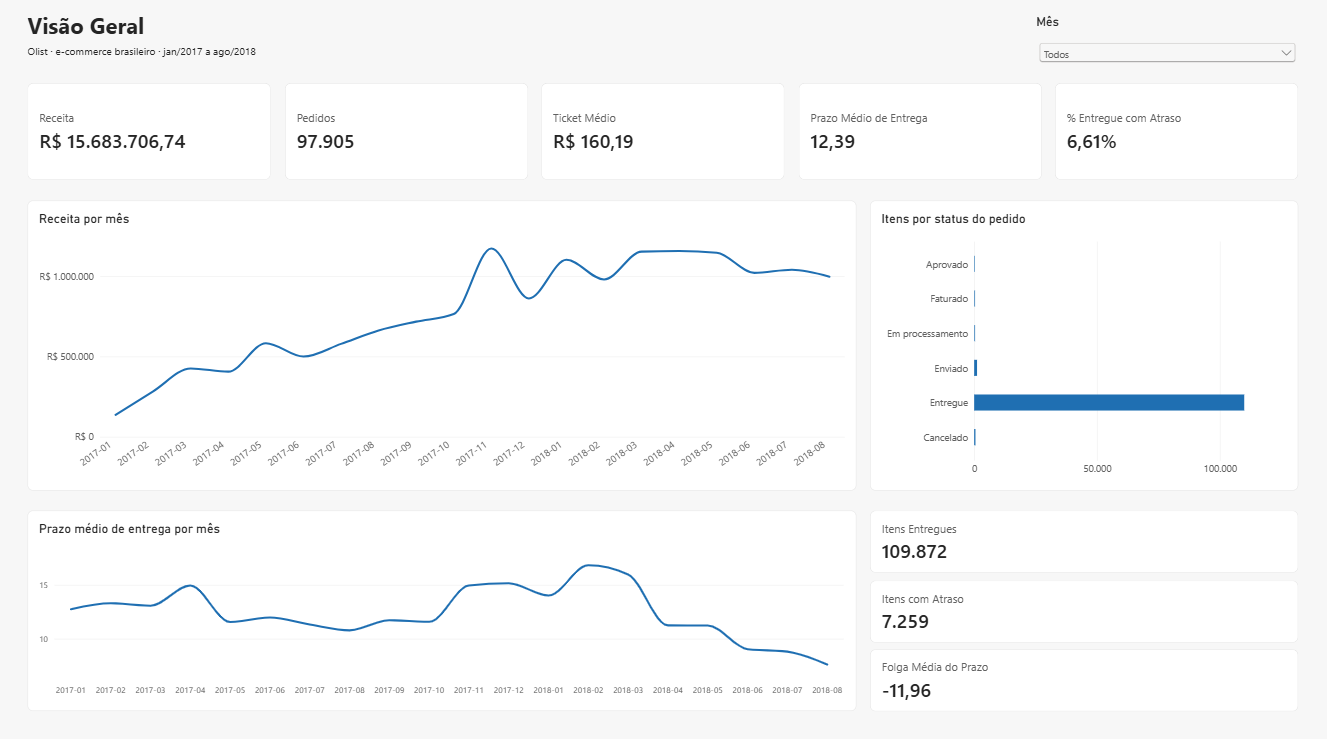

Layout of this report page (visuals, bound fields, positions):
{"tool":"powerbi","page":{"name":"Visão Geral","canvas":[1920,1080],"ordinal":0},"visuals":[{"type":"cardVisual","fields":{"Data":["fato_vendas.Receita"]},"box":[40,130,352,140],"z":0},{"type":"lineChart","fields":{"Category":["dim_data.ano_mes"],"Y":["fato_vendas.Receita"]},"box":[40,300,1200,420],"z":10},{"type":"lineChart","fields":{"Category":["dim_data.ano_mes"],"Y":["fato_vendas.Prazo Médio de Entrega"]},"box":[40,750,1200,290],"z":11},{"type":"barChart","fields":{"Category":["dim_status_pedido.status"],"Y":["fato_vendas.Itens (com cancelados)"]},"box":[1260,300,620,420],"z":12},{"type":"cardVisual","fields":{"Data":["fato_vendas.Itens Entregues"]},"box":[1260,750,620,90],"z":13},{"type":"cardVisual","fields":{"Data":["fato_vendas.Itens com Atraso"]},"box":[1260,850,620,90],"z":14},{"type":"cardVisual","fields":{"Data":["fato_vendas.Folga Média do Prazo"]},"box":[1260,950,620,90],"z":15},{"type":"textbox","box":[40,26,900,44],"z":20},{"type":"textbox","box":[40,74,900,26],"z":21},{"type":"cardVisual","fields":{"Data":["fato_vendas.Pedidos"]},"box":[412,130,352,140],"z":1000},{"type":"cardVisual","fields":{"Data":["fato_vendas.Ticket Médio"]},"box":[784,130,352,140],"z":2000},{"type":"cardVisual","fields":{"Data":["fato_vendas.Prazo Médio de Entrega"]},"box":[1156,130,352,140],"z":3000},{"type":"cardVisual","fields":{"Data":["fato_vendas.% Entregue com Atraso"]},"box":[1528,130,352,140],"z":4000}]}

Visuals, with their boxes in screenshot pixels (x1, y1, x2, y2), scaled from the page's 1920x1080 canvas onto the 1327x739 screenshot:
cardVisual - fato_vendas.Receita: rect(28, 89, 271, 185)
lineChart - dim_data.ano_mes x fato_vendas.Receita: rect(28, 205, 857, 493)
lineChart - dim_data.ano_mes x fato_vendas.Prazo Médio de Entrega: rect(28, 513, 857, 712)
barChart - dim_status_pedido.status x fato_vendas.Itens (com cancelados): rect(871, 205, 1299, 493)
cardVisual - fato_vendas.Itens Entregues: rect(871, 513, 1299, 575)
cardVisual - fato_vendas.Itens com Atraso: rect(871, 582, 1299, 643)
cardVisual - fato_vendas.Folga Média do Prazo: rect(871, 650, 1299, 712)
textbox: rect(28, 18, 650, 48)
textbox: rect(28, 51, 650, 68)
cardVisual - fato_vendas.Pedidos: rect(285, 89, 528, 185)
cardVisual - fato_vendas.Ticket Médio: rect(542, 89, 785, 185)
cardVisual - fato_vendas.Prazo Médio de Entrega: rect(799, 89, 1042, 185)
cardVisual - fato_vendas.% Entregue com Atraso: rect(1056, 89, 1299, 185)
